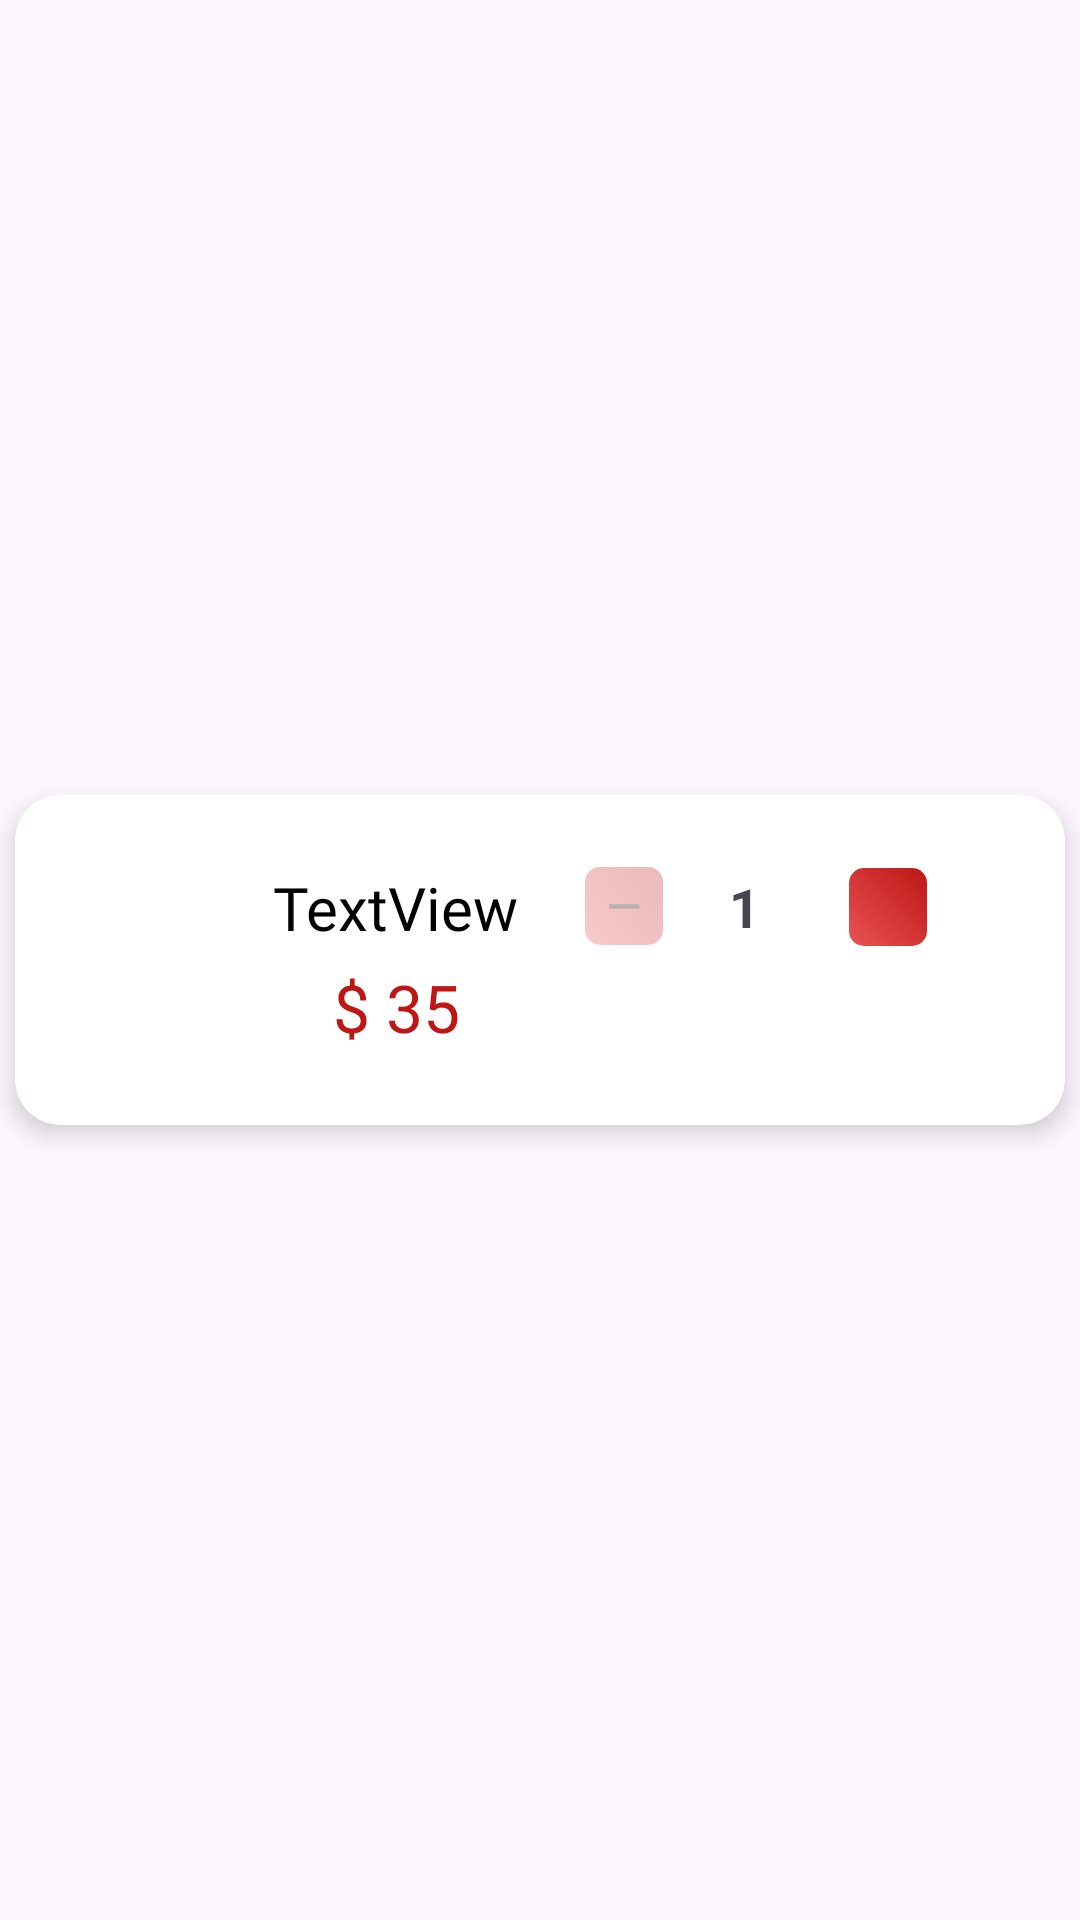

Where icons sit on this 1080×1920 app screen, as (x1, y1, x2, y2):
minus: (585, 867, 663, 945)
